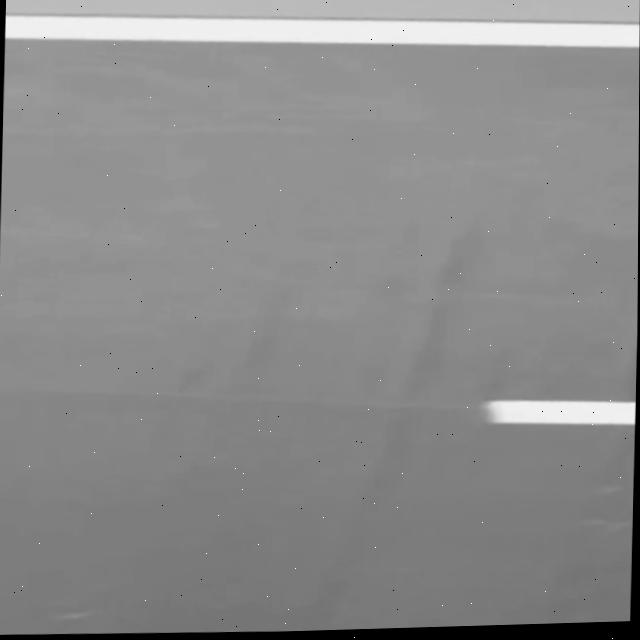center: (483, 400, 635, 424)
right: (5, 15, 640, 47)
